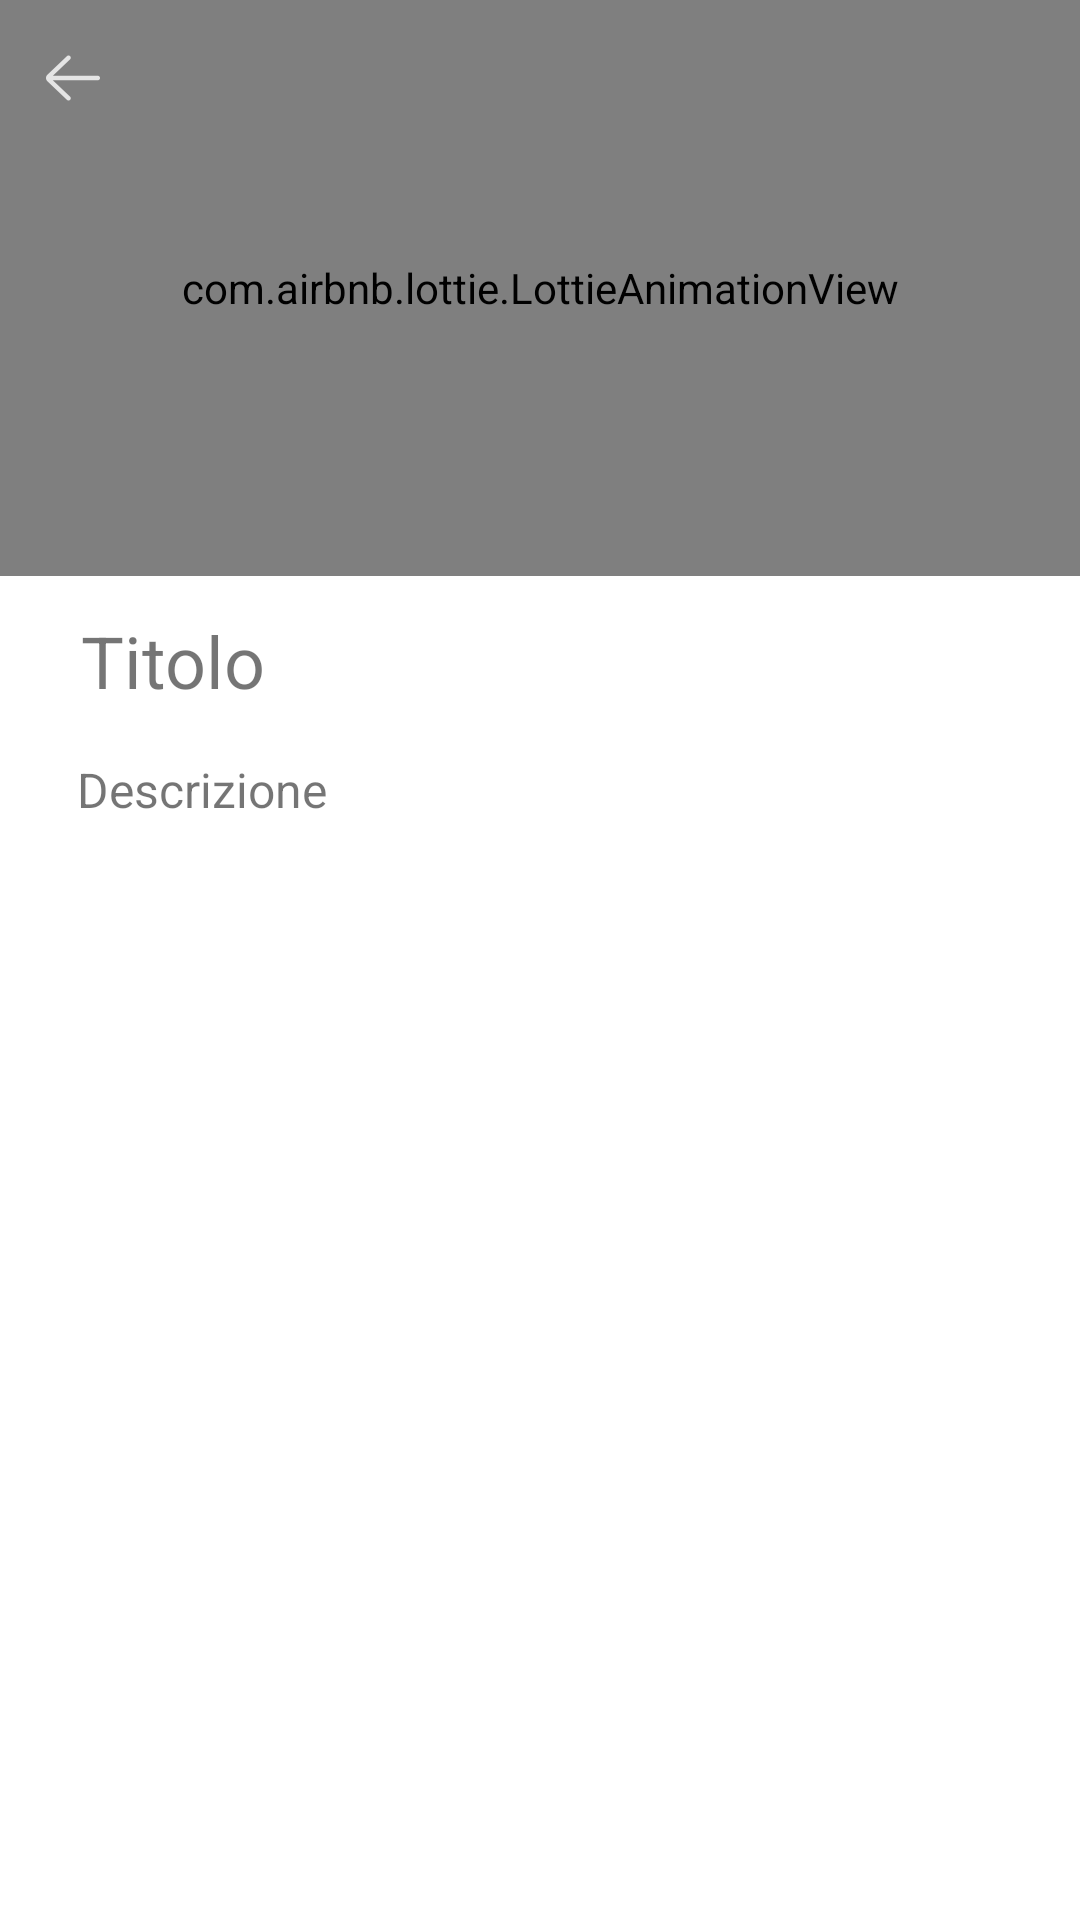

Icon bounding boxes for this 1080×1920 phone screenshot, format (x1, y1, x2, y2):
left arrow: (46, 55, 100, 101)
